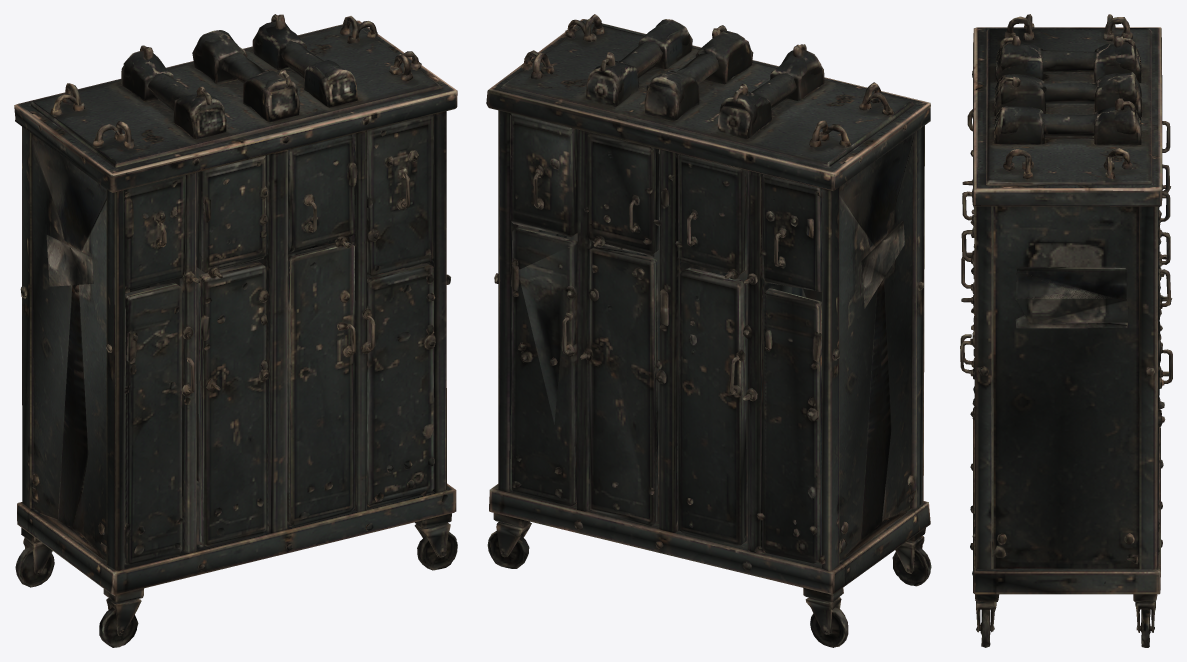
File: medical_drawer_cart.fbx
3 views of the same model, side by side, from view 1: azimuth 30°, elevation 25°; view 2: azimuth 150°, elevation 25°; view 3: azimuth 270°, elevation 25° (orthographic). The views are drawn at different scales.
Visible parts, largest first — view 1: mesh_node; view 2: mesh_node; view 3: mesh_node.
Boxes of the visible parts, x1,y1,x2,y2 form: mesh_node: [14, 14, 457, 647]; mesh_node: [486, 14, 931, 647]; mesh_node: [960, 14, 1172, 647].
Bounding box in the file's own units: 71.48 × 100 × 38.28.
1 material, 1 textured.
